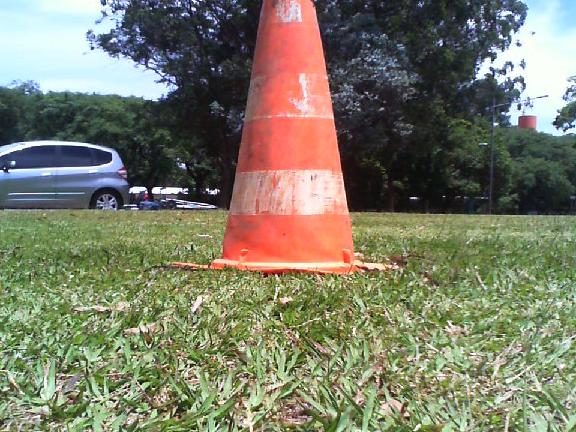0 cone: (172, 0, 402, 271)
